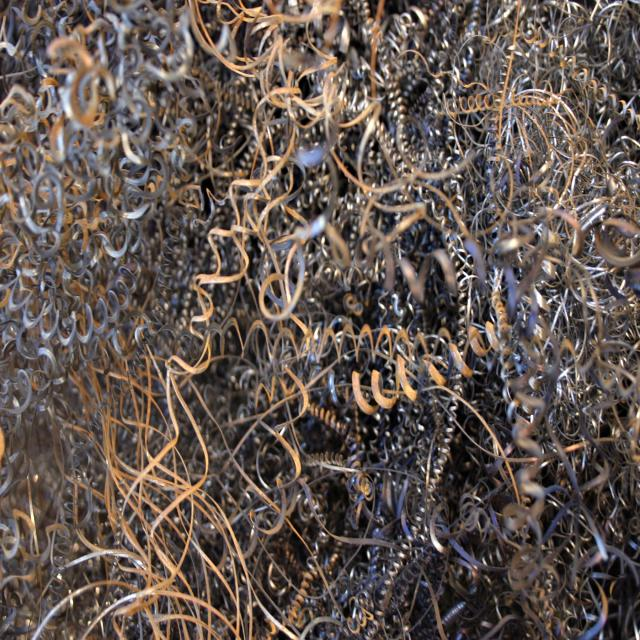metal: (127, 79, 529, 534)
